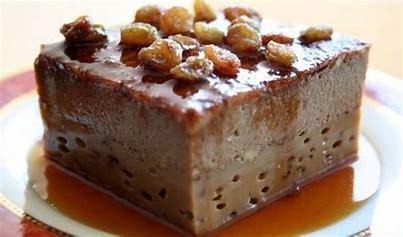Watalappam: (24, 6, 360, 218)
